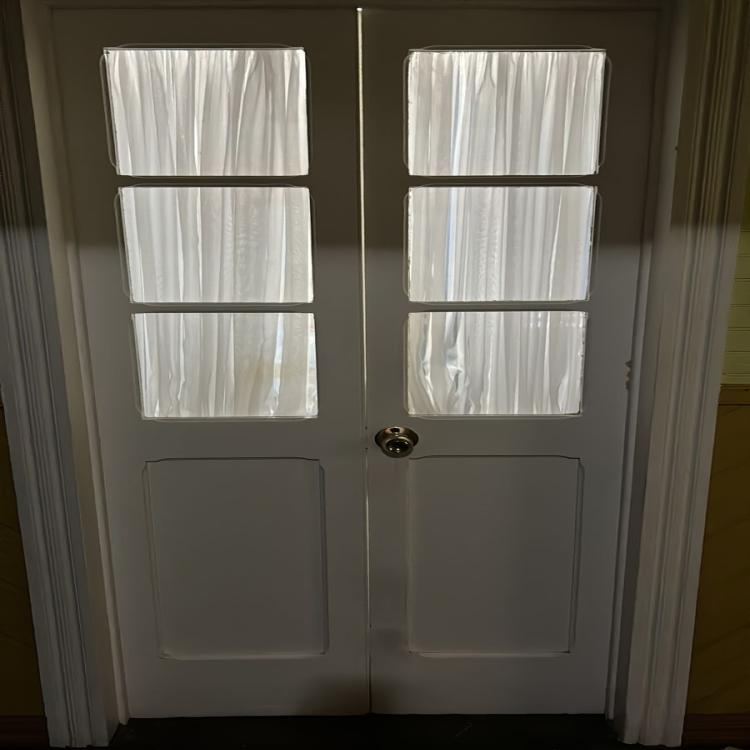ClosedDoor: (39, 8, 664, 750)
